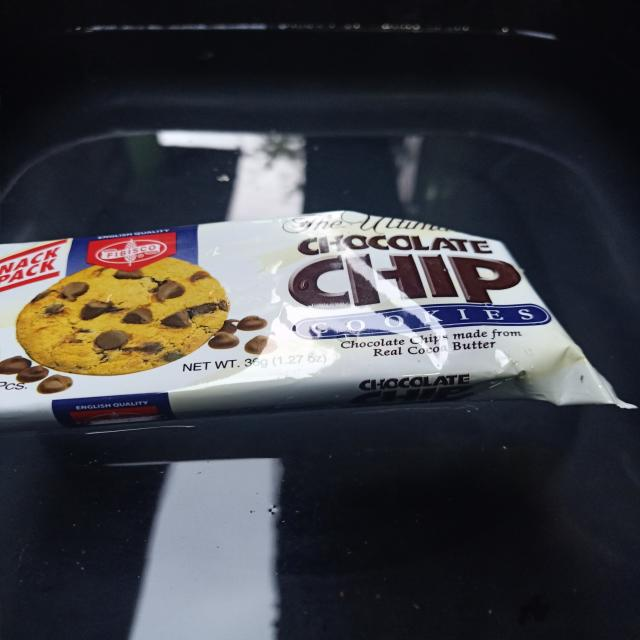Plastic Wrapper: (0, 198, 640, 437)
